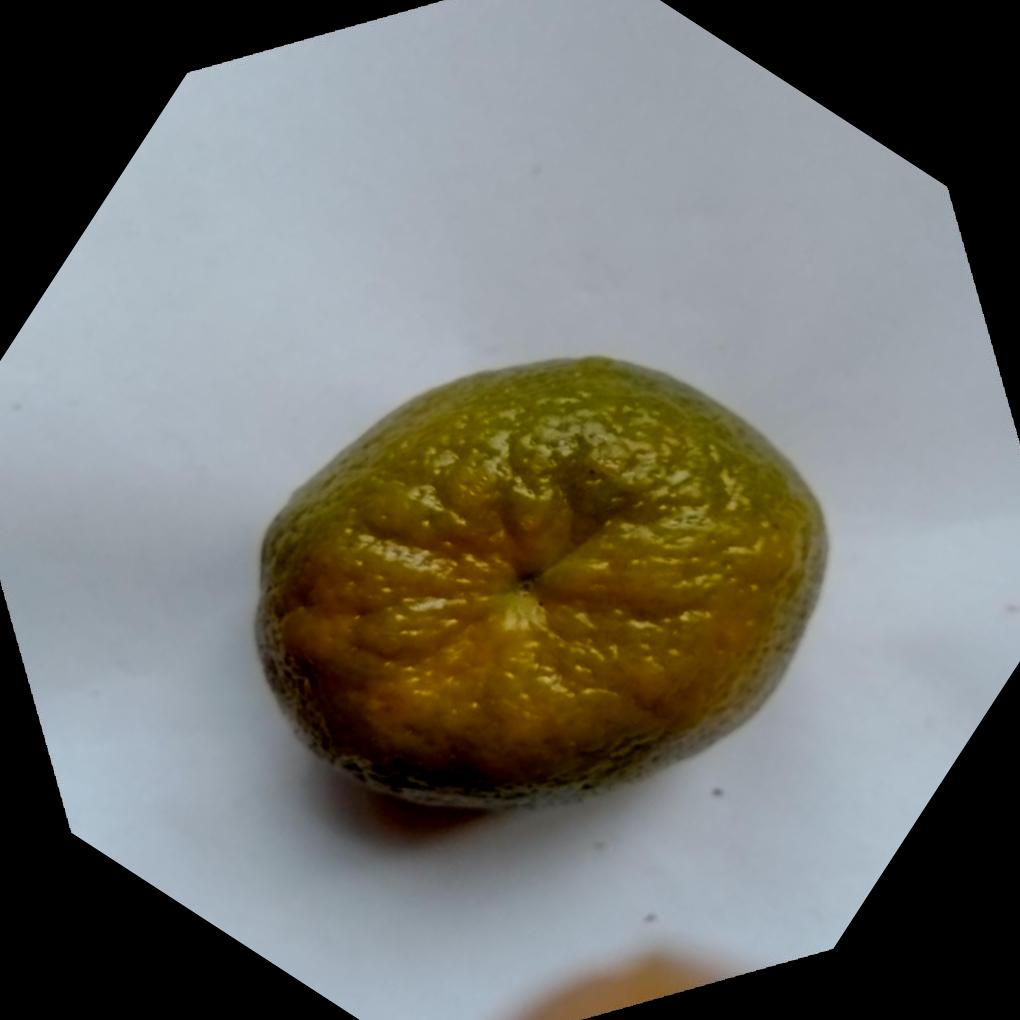FreshGuava: (253, 350, 833, 812)
